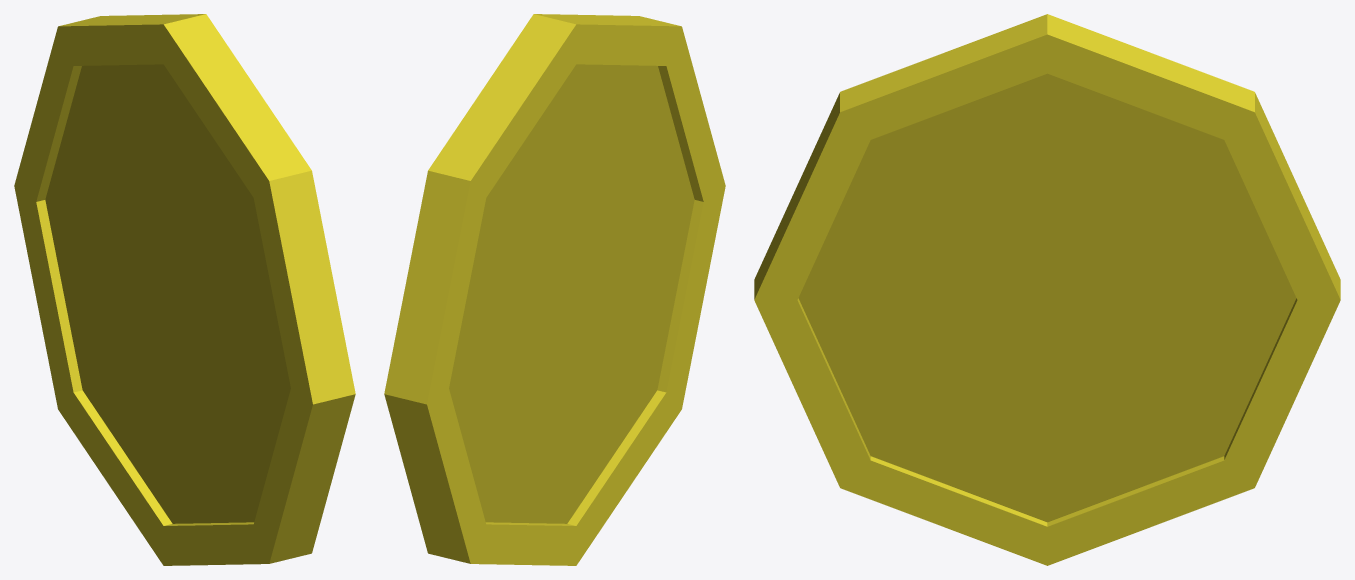
The model's file is gold.fbx.
3 views of the same model, side by side, from view 1: azimuth 30°, elevation 25°; view 2: azimuth 150°, elevation 25°; view 3: azimuth 270°, elevation 25° (orthographic).
Parts seen in each view (by area): view 1: gold_outside; view 2: gold_outside; view 3: gold_outside.
Boxes of the visible parts, x1,y1,x2,y2 form: gold_outside: [14, 14, 355, 565]; gold_outside: [384, 14, 725, 565]; gold_outside: [754, 14, 1340, 565].
Size of the model in its own units: 16.51 by 200 by 200.
